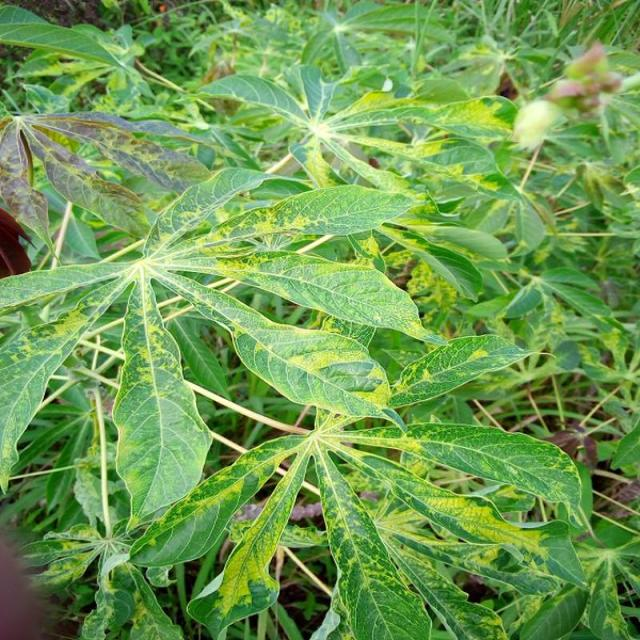cassava leaf: (1, 97, 590, 637), (110, 269, 213, 533)
